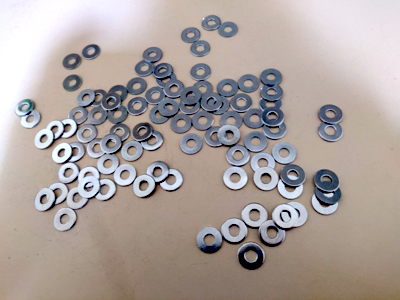circle: (237, 242, 266, 271), (259, 219, 286, 247), (221, 218, 248, 245), (196, 227, 223, 254), (241, 203, 269, 229), (282, 202, 308, 229), (314, 169, 340, 194), (253, 167, 279, 192), (272, 204, 297, 230), (312, 191, 339, 215), (159, 168, 184, 193), (278, 175, 304, 199), (53, 207, 77, 233), (315, 181, 342, 204), (280, 164, 305, 188), (223, 167, 248, 191), (46, 182, 70, 207), (113, 164, 137, 188), (66, 186, 89, 211), (251, 152, 275, 175), (179, 133, 203, 156), (146, 161, 169, 185), (94, 178, 117, 202), (318, 121, 343, 143), (272, 142, 297, 164), (217, 125, 242, 147), (262, 118, 287, 140), (192, 110, 215, 133), (243, 107, 266, 130), (66, 105, 89, 128), (219, 110, 243, 132), (133, 175, 155, 199), (78, 165, 100, 189), (34, 188, 55, 213), (244, 131, 267, 153), (226, 145, 249, 167), (230, 92, 253, 114), (33, 128, 55, 151), (97, 153, 120, 175), (141, 131, 164, 153), (58, 162, 80, 185), (78, 177, 100, 200), (261, 107, 285, 128), (318, 105, 343, 125), (259, 94, 284, 114), (57, 118, 79, 140), (106, 103, 128, 125), (87, 105, 109, 127), (204, 127, 227, 148), (237, 73, 260, 94), (170, 113, 192, 134), (163, 79, 185, 100), (121, 141, 143, 162), (76, 123, 98, 144), (86, 138, 107, 160), (51, 143, 72, 165), (64, 142, 86, 163), (189, 62, 212, 82), (149, 105, 171, 125), (158, 98, 180, 118), (145, 86, 167, 106), (260, 68, 283, 87), (261, 83, 284, 102), (216, 79, 239, 98), (133, 122, 153, 143), (109, 124, 130, 144), (180, 87, 201, 106), (201, 93, 222, 112), (134, 59, 155, 78), (20, 110, 41, 129), (45, 120, 64, 141), (127, 97, 148, 116), (108, 85, 129, 104), (88, 90, 109, 109), (190, 39, 212, 57), (155, 71, 177, 89), (14, 99, 36, 117), (193, 81, 213, 100), (102, 93, 122, 112), (76, 89, 96, 108), (218, 21, 239, 39), (62, 74, 83, 92), (153, 62, 173, 80), (201, 15, 222, 32), (142, 47, 163, 64), (181, 27, 201, 44), (81, 43, 101, 60), (127, 78, 147, 95), (63, 53, 82, 70)
